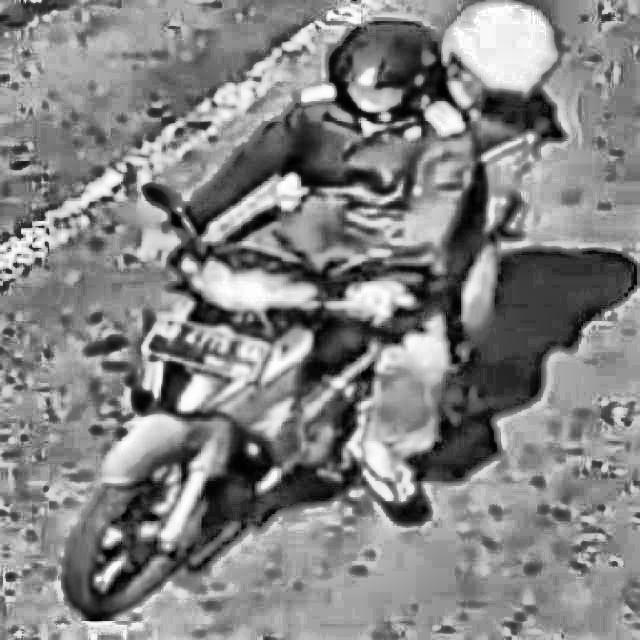motorcycle: (55, 172, 524, 625)
